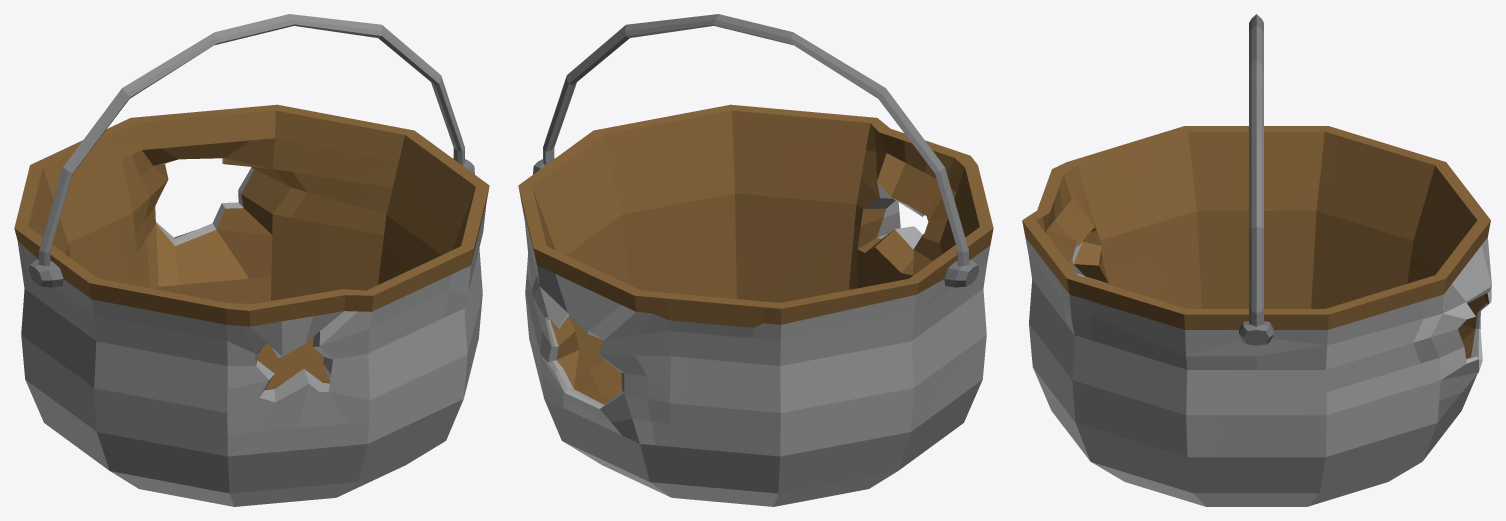
The model's file is cooking_pot_shot.glb.
The picture shows the model from 3 angles, left to right: view 1: azimuth 30°, elevation 25°; view 2: azimuth 150°, elevation 25°; view 3: azimuth 270°, elevation 25°; orthographic projection. The views are drawn at different scales.
Parts seen in each view (by area): view 1: cooking_pot_shot, cooking_pot_shot_handle; view 2: cooking_pot_shot, cooking_pot_shot_handle; view 3: cooking_pot_shot, cooking_pot_shot_handle.
Part boxes in pixels (left/top/right/bottom): cooking_pot_shot: left=14, top=104, right=489, bottom=506; cooking_pot_shot_handle: left=39, top=14, right=464, bottom=266; cooking_pot_shot: left=518, top=104, right=993, bottom=506; cooking_pot_shot_handle: left=543, top=14, right=968, bottom=266; cooking_pot_shot: left=1022, top=126, right=1491, bottom=506; cooking_pot_shot_handle: left=1249, top=14, right=1263, bottom=326.
Size of the model in its own units: 0.379 by 0.3436 by 0.3671.
Materials: 1 (1 with a texture image).
